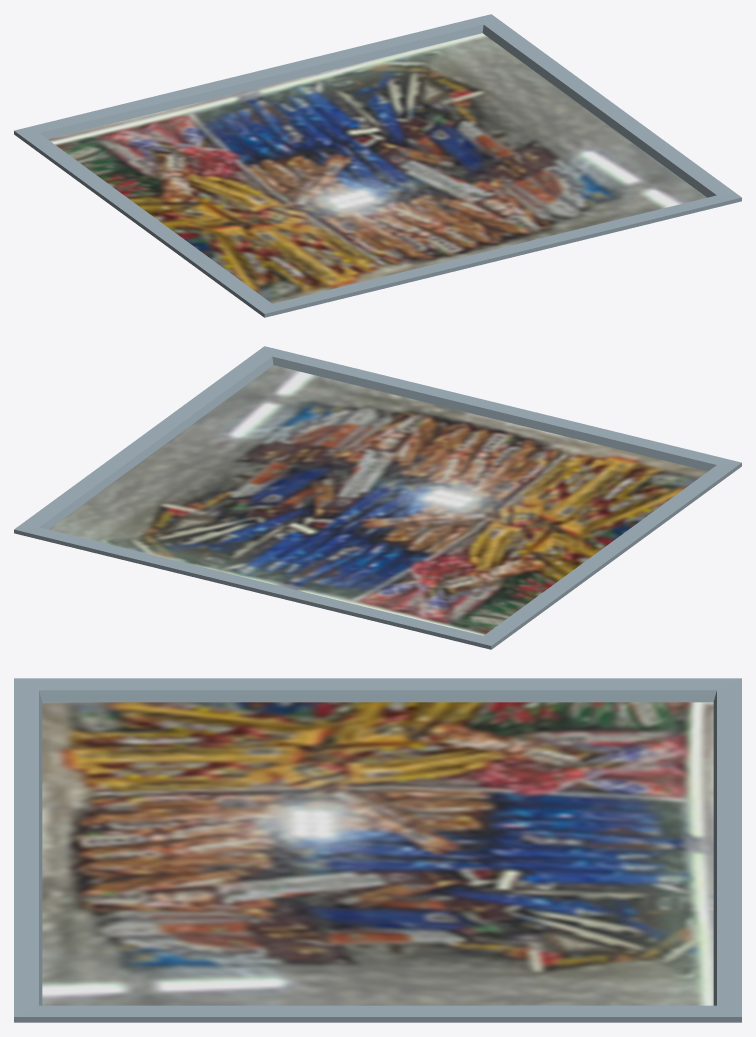
The model's file is Refrigerator_3.fbx.
The picture shows the model from 3 angles, top to bottom: view 1: azimuth 30°, elevation 25°; view 2: azimuth 150°, elevation 25°; view 3: azimuth 270°, elevation 25°; orthographic projection. The views are drawn at different scales.
Parts seen in each view (by area): view 1: pCube8; view 2: pCube8; view 3: pCube8.
Boxes of the visible parts, <box> form: pCube8: <box>14,14,741,317</box>; pCube8: <box>14,346,741,649</box>; pCube8: <box>14,678,741,1022</box>.
Bounding box in the file's own units: 10.89 × 0.2356 × 9.9.
1 material, 1 textured.
